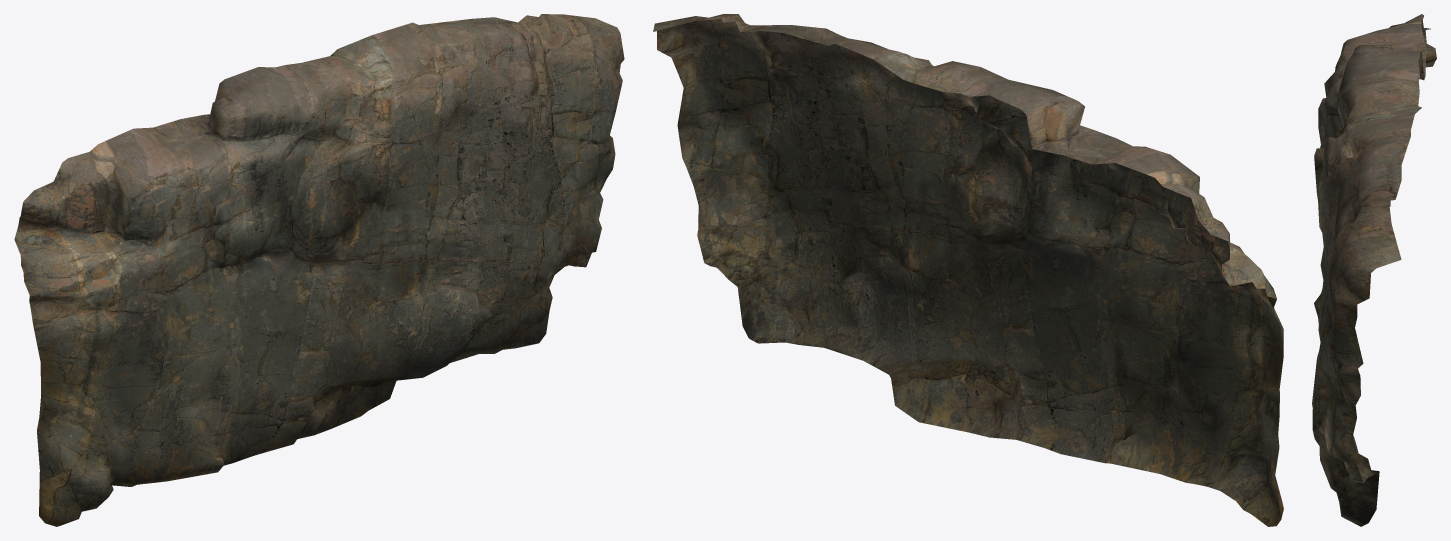
Rendered from Cliff1.fbx.
3 views of the same model, side by side, from view 1: azimuth 30°, elevation 25°; view 2: azimuth 150°, elevation 25°; view 3: azimuth 270°, elevation 25° (orthographic). The views are drawn at different scales.
Parts seen in each view (by area): view 1: qkbtz_LOD0_TIER3_000; view 2: qkbtz_LOD0_TIER3_000; view 3: qkbtz_LOD0_TIER3_000.
Boxes of the visible parts, x1,y1,x2,y2 form: qkbtz_LOD0_TIER3_000: (14,14,624,526); qkbtz_LOD0_TIER3_000: (653,14,1283,526); qkbtz_LOD0_TIER3_000: (1312,14,1436,526).
Bounding box in the file's own units: 689 × 433 × 119.
1 material, 1 textured.
